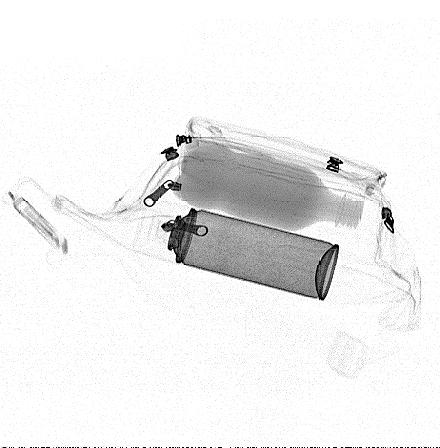Sprayer: (132, 200, 339, 301)
